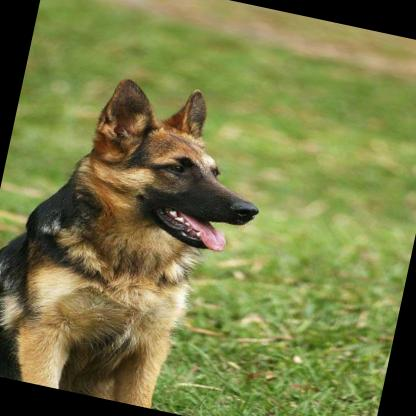German_shepherd: (0, 48, 284, 416)
